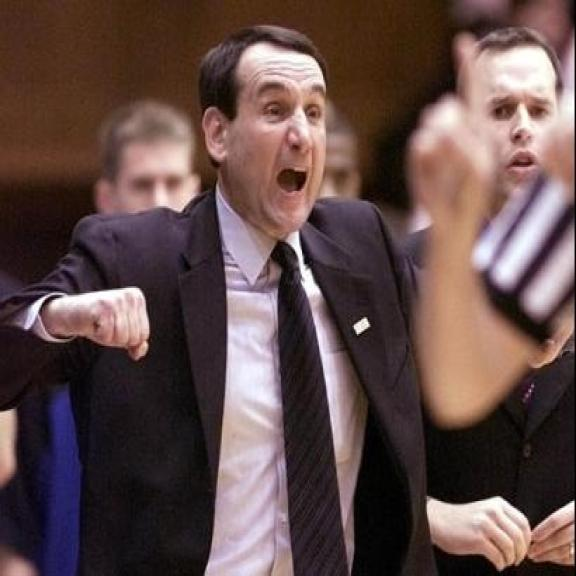face: (204, 48, 328, 230), (467, 46, 560, 199), (94, 135, 198, 219)
